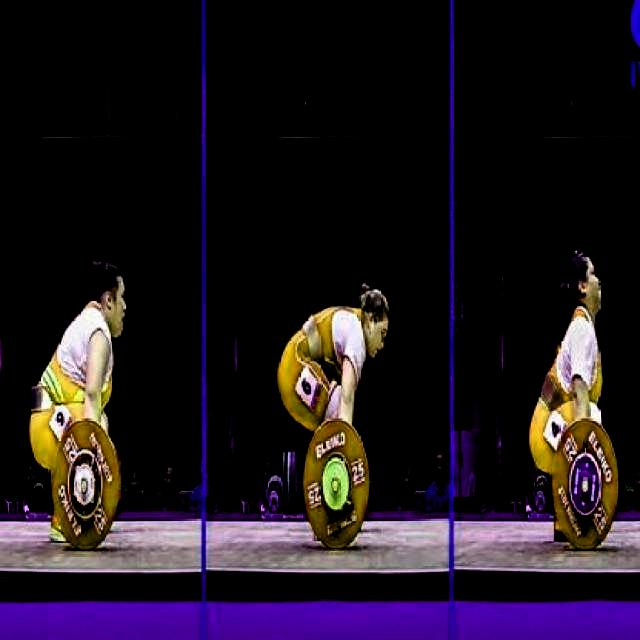barbell: (300, 412, 374, 554), (549, 417, 624, 555), (48, 414, 121, 555)
